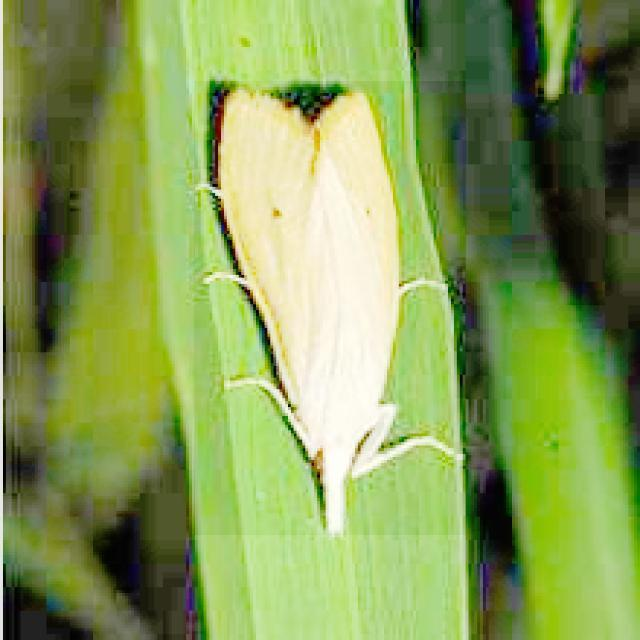stem-borer: (194, 82, 466, 536)
